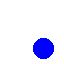circle: (33, 38, 53, 58)
